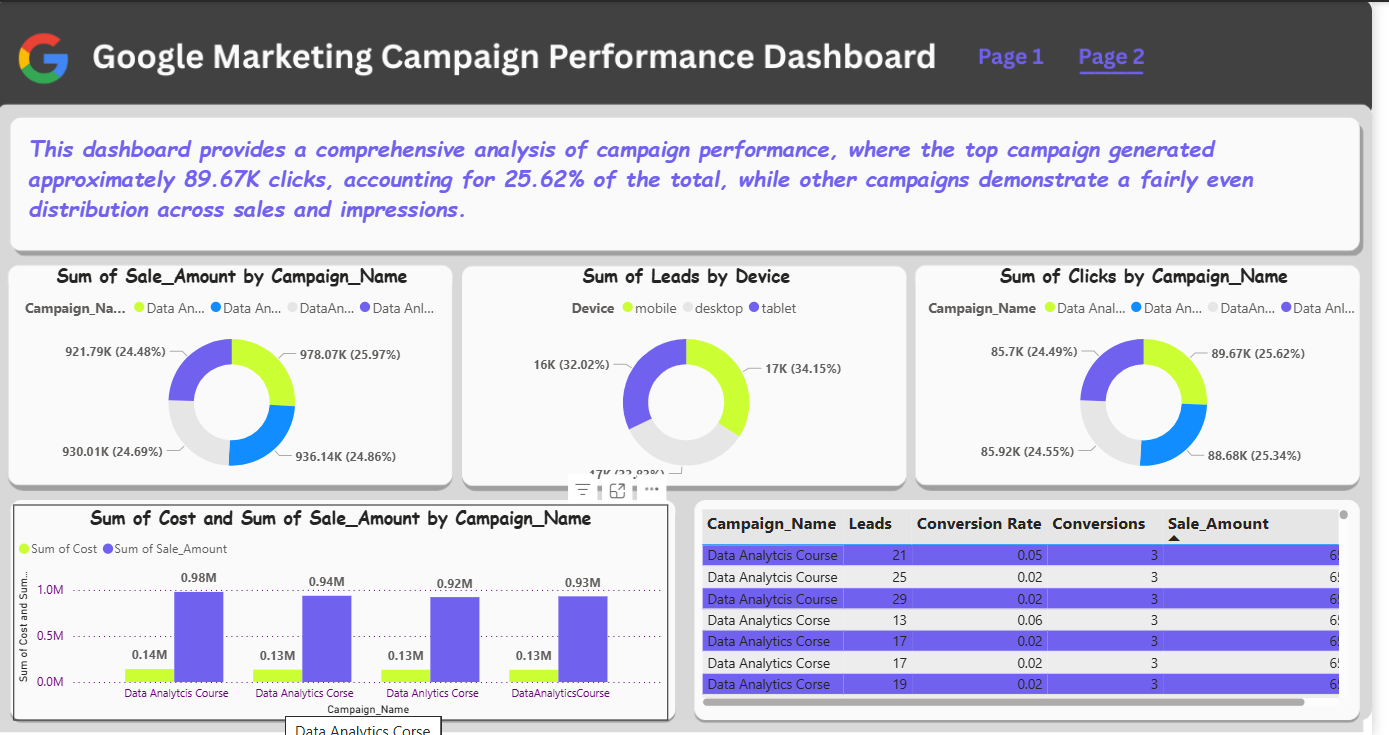

Layout of this report page (visuals, bound fields, positions):
{"tool":"powerbi","page":{"name":"Page 2","canvas":[1350,720],"ordinal":1},"visuals":[{"type":"donutChart","fields":{"Category":["cleaned_marketing_data.Campaign_Name"],"Y":["Sum(cleaned_marketing_data.Sale_Amount)"]},"box":[16,255.2,429.5,222.1],"z":0},{"type":"donutChart","fields":{"Category":["cleaned_marketing_data.Device"],"Y":["Sum(cleaned_marketing_data.Leads)"]},"box":[462.6,255.2,428.2,222.1],"z":1},{"type":"donutChart","fields":{"Category":["cleaned_marketing_data.Campaign_Name"],"Y":["Sum(cleaned_marketing_data.Clicks)"]},"box":[901.8,255.2,447.9,222.1],"z":2},{"type":"clusteredColumnChart","fields":{"Category":["cleaned_marketing_data.Campaign_Name"],"Y":["Sum(cleaned_marketing_data.Cost)","Sum(cleaned_marketing_data.Sale_Amount)"]},"box":[16,493.3,642.9,212.3],"z":3},{"type":"tableEx","fields":{"Values":["cleaned_marketing_data.Campaign_Name","cleaned_marketing_data.Leads","cleaned_marketing_data.Conversion Rate","cleaned_marketing_data.Conversions","cleaned_marketing_data.Sale_Amount"]},"box":[685.9,493.3,645.4,203.7],"z":4},{"type":"textbox","box":[25.8,123.9,1314.1,106.7],"z":5},{"type":"actionButton","box":[946,31.9,99.4,41.7],"z":6}]}

Visuals, with their boxes in screenshot pixels (x1, y1, x2, y2), scaled from the page's 1350x720 canvas onto the 1389x735 screenshot:
donutChart - cleaned_marketing_data.Campaign_Name x Sum(cleaned_marketing_data.Sale_Amount): {"left": 16, "top": 261, "right": 458, "bottom": 487}
donutChart - cleaned_marketing_data.Device x Sum(cleaned_marketing_data.Leads): {"left": 476, "top": 261, "right": 917, "bottom": 487}
donutChart - cleaned_marketing_data.Campaign_Name x Sum(cleaned_marketing_data.Clicks): {"left": 928, "top": 261, "right": 1388, "bottom": 487}
clusteredColumnChart - cleaned_marketing_data.Campaign_Name x Sum(cleaned_marketing_data.Cost): {"left": 16, "top": 504, "right": 678, "bottom": 720}
tableEx - cleaned_marketing_data.Campaign_Name x cleaned_marketing_data.Leads: {"left": 706, "top": 504, "right": 1370, "bottom": 712}
textbox: {"left": 27, "top": 126, "right": 1379, "bottom": 235}
actionButton: {"left": 973, "top": 33, "right": 1076, "bottom": 75}
